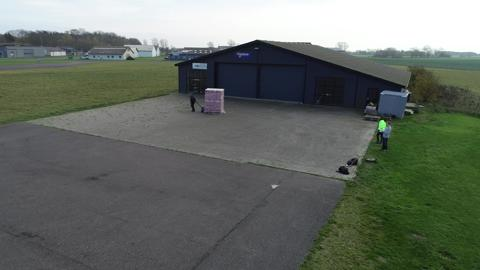RockwoolPallet: (204, 87, 226, 114)
